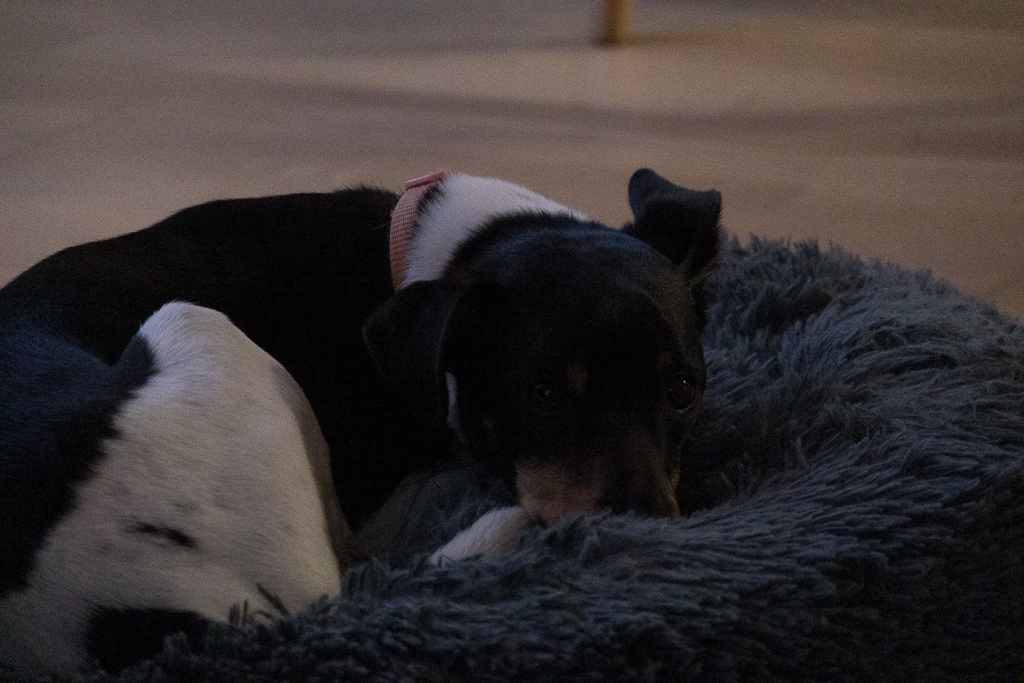Dog: (0, 155, 737, 683)
